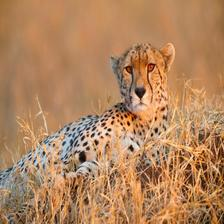Cheetah: (0, 42, 176, 224)
